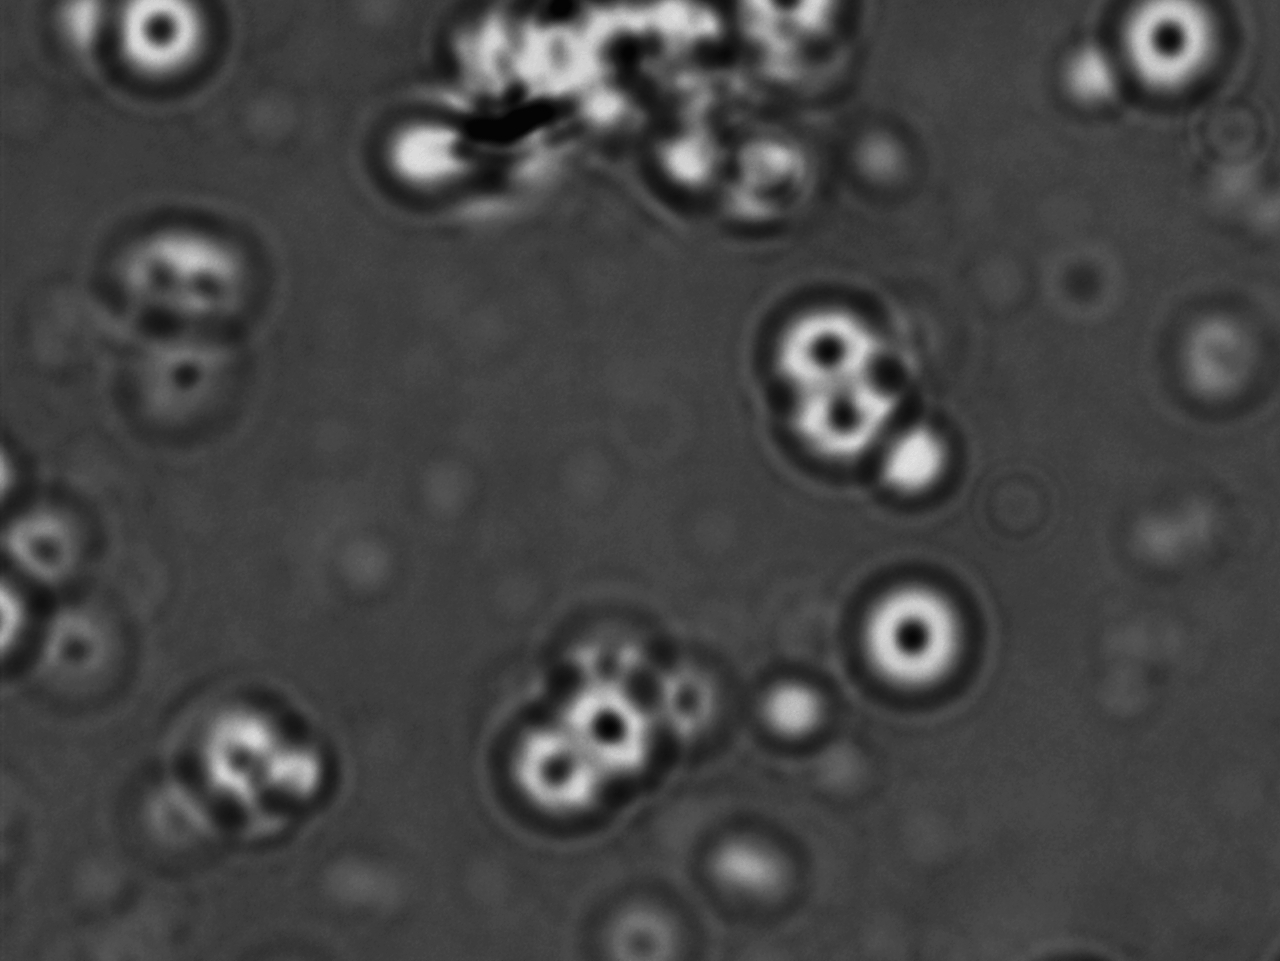depth:24: (821, 565, 999, 725), (741, 266, 903, 412), (531, 663, 679, 805), (767, 351, 916, 487)
